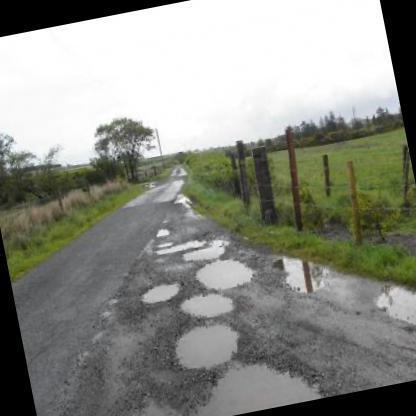pothole: (200, 357, 339, 416), (171, 318, 249, 376), (268, 254, 328, 294), (154, 234, 230, 264), (194, 258, 256, 292), (181, 288, 235, 324), (141, 278, 185, 306)
